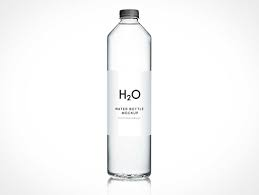available: (106, 4, 154, 184)
